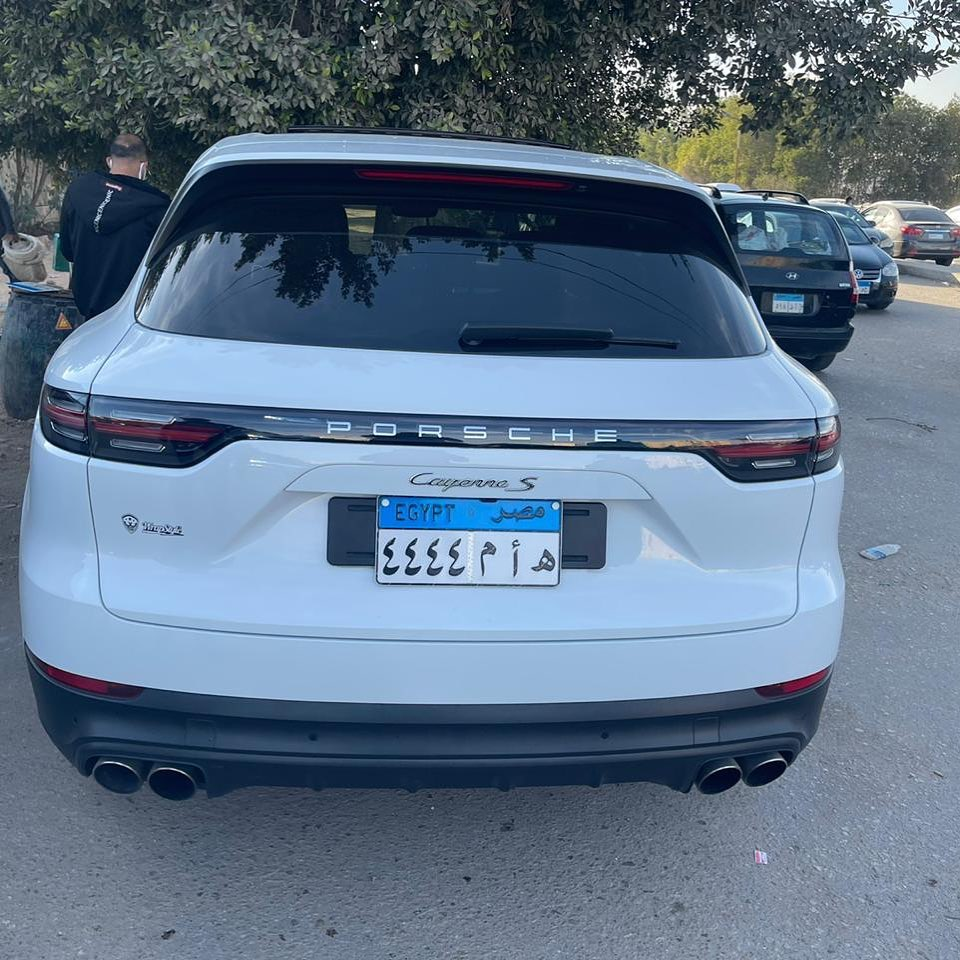carpl: (378, 524, 563, 584)
